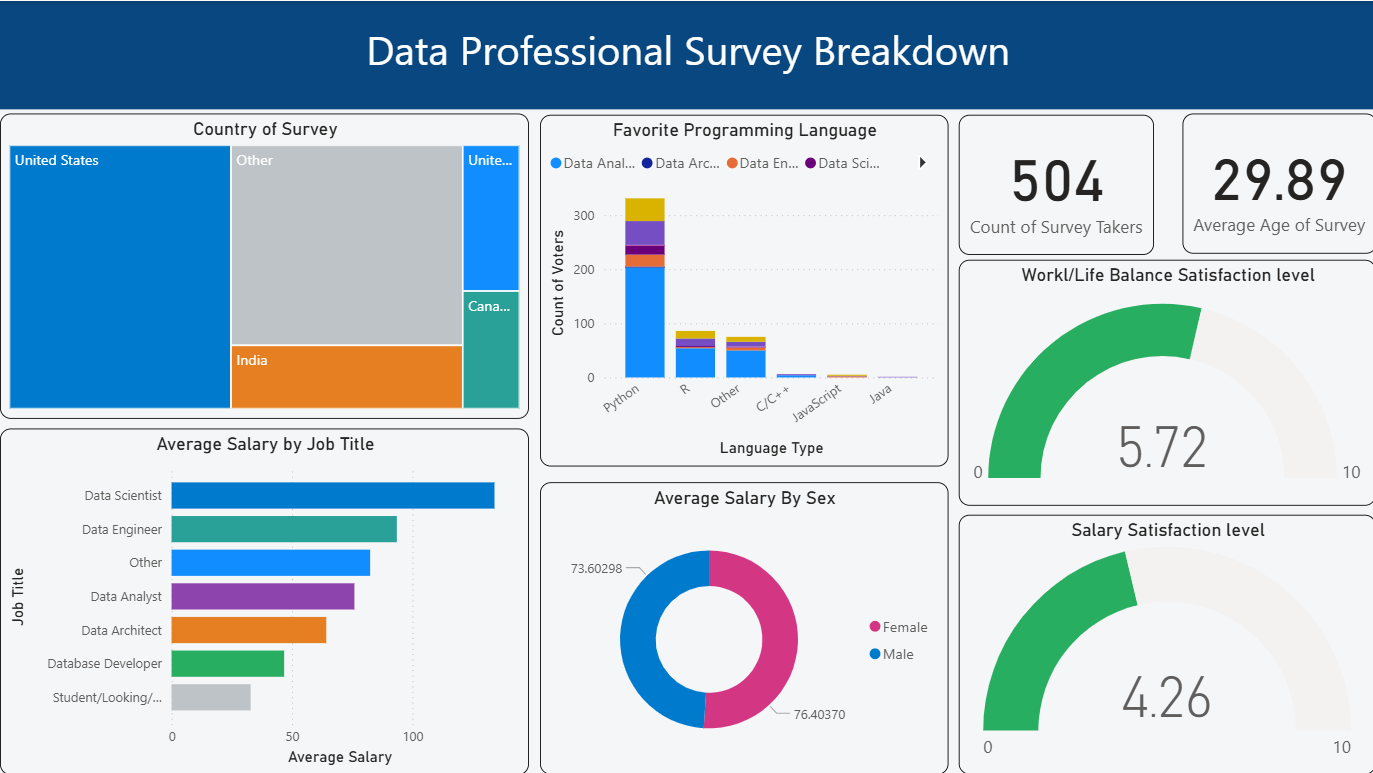

The dashboard page shown, as its layout file describes it:
{"tool":"powerbi","page":{"name":"Survey Breakdown","canvas":[1280,720],"ordinal":0},"visuals":[{"type":"textbox","box":[0,0,1280.2,100.8],"z":0},{"type":"card","title":"gg","fields":{"Values":["CountNonNull(Data Professional Survey.Unique ID)"]},"box":[892.2,105.5,181.7,130.1],"z":1000},{"type":"card","title":"gg","fields":{"Values":["Avg(Data Professional Survey.Q10 - Current Age)"]},"box":[1099.7,104.3,180.5,130.1],"z":2000},{"type":"barChart","title":"Average Salary by Job Title ","fields":{"Category":["Data Professional Survey.Q1 - Which Title Best Fits your Current Role?.1"],"Y":["Avg(Data Professional Survey.Average Salary )"]},"box":[0,397.4,492.4,322.4],"z":3000},{"type":"columnChart","title":"Favorite Programming Language","fields":{"Category":["Data Professional Survey.Q5 - Favorite Programming Language.1"],"Y":["CountNonNull(Data Professional Survey.Unique ID)"],"Series":["Data Professional Survey.Q1 - Which Title Best Fits your Current Role?.1"]},"box":[502,105.5,379.9,327.1],"z":4000},{"type":"treemap","title":"Country of Survey","fields":{"Group":["Data Professional Survey.Q11 - Which Country do you live in?.1"],"Values":["CountNonNull(Data Professional Survey.Q11 - Which Country do you live in?.1)"]},"box":[0,104.3,492.4,283.7],"z":5000},{"type":"gauge","title":"Workl/Life Balance Satisfaction level","fields":{"Y":["Avg(Data Professional Survey.Q6 - How Happy are you in your Current Position with the following? (Work/Life Balance))"],"MinValue":["Min(Data Professional Survey.Q6 - How Happy are you in your Current Position with the following? (Work/Life Balance))1"],"MaxValue":["Max(Data Professional Survey.Q6 - How Happy are you in your Current Position with the following? (Work/Life Balance))2"]},"box":[892.2,240.3,388.1,228.6],"z":6000},{"type":"gauge","title":"Salary Satisfaction level","fields":{"Y":["Avg(Data Professional Survey.Q6 - How Happy are you in your Current Position with the following? (Salary))"],"MinValue":["Min(Data Professional Survey.Q6 - How Happy are you in your Current Position with the following? (Salary))1"],"MaxValue":["Max(Data Professional Survey.Q6 - How Happy are you in your Current Position with the following? (Salary))2"]},"box":[892.2,478.3,388.1,241.5],"z":7000},{"type":"donutChart","title":"Average Salary By Sex","fields":{"Category":["Data Professional Survey.Q9 - Male/Female?"],"Y":["Avg(Data Professional Survey.Average Salary )"]},"box":[502,447.8,379.9,272],"z":8000}]}

Visuals, with their boxes in screenshot pixels (x1, y1, x2, y2), scaled from the page's 1280x720 canvas onto the 1373x773 screenshot:
textbox: crop(0, 0, 1372, 108)
"gg" card: crop(957, 113, 1152, 253)
"gg" card: crop(1180, 112, 1372, 252)
"Average Salary by Job Title " barChart: crop(0, 427, 528, 772)
"Favorite Programming Language" columnChart: crop(538, 113, 946, 464)
"Country of Survey" treemap: crop(0, 112, 528, 417)
"Workl/Life Balance Satisfaction level" gauge: crop(957, 258, 1372, 503)
"Salary Satisfaction level" gauge: crop(957, 514, 1372, 772)
"Average Salary By Sex" donutChart: crop(538, 481, 946, 772)
